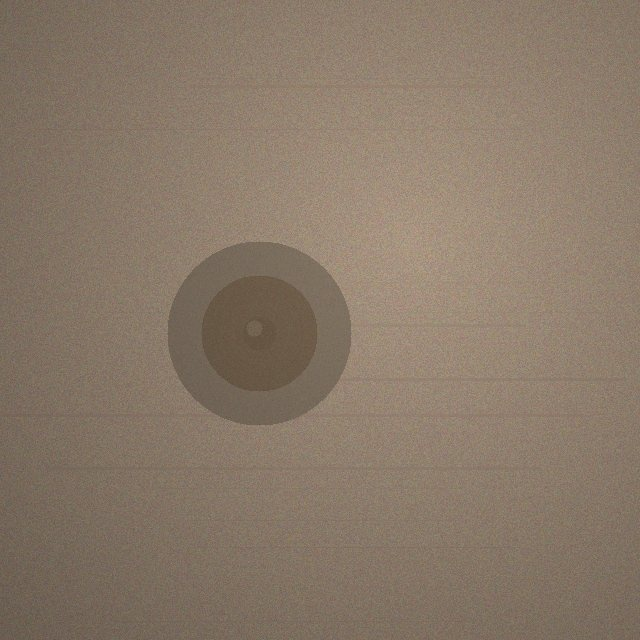good: (167, 241, 351, 425)
